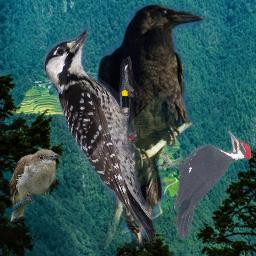Crow: (96, 3, 206, 249)
Cuckoo: (8, 148, 60, 222)
Woodpecker: (43, 27, 156, 243), (158, 130, 253, 240)
